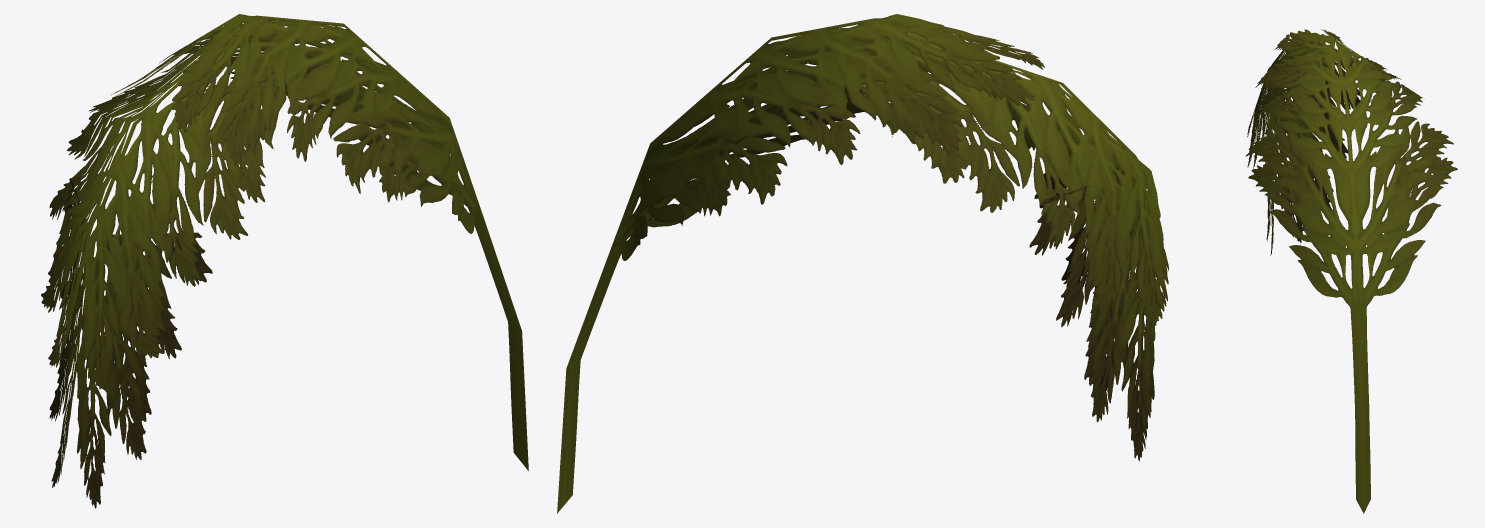
Rendered from WetLands_Fern_02.fbx.
3 renders of one model, left to right at view 1: azimuth 30°, elevation 25°; view 2: azimuth 150°, elevation 25°; view 3: azimuth 270°, elevation 25°, orthographic. The views are drawn at different scales.
Parts seen in each view (by area): view 1: WetLands_Fern_02; view 2: WetLands_Fern_02; view 3: WetLands_Fern_02.
Boxes of the visible parts, bbox=[...] form: WetLands_Fern_02: bbox=[41, 14, 528, 508]; WetLands_Fern_02: bbox=[557, 14, 1168, 513]; WetLands_Fern_02: bbox=[1245, 29, 1457, 513].
Size of the model in its own units: 3.08 by 2.98 by 1.84.
Materials: 1 (1 with a texture image).
